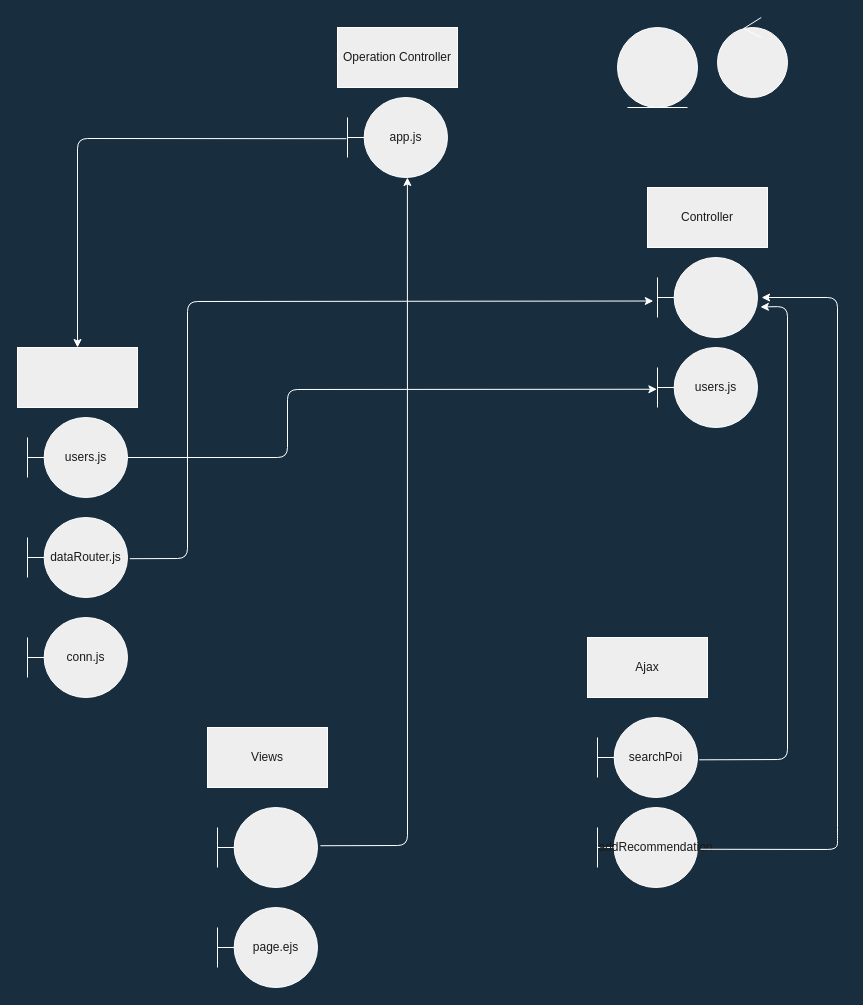
Some shapes in this 863 by 1005 pixel diagram are drawn without their labels. Each missing label, with the centre of its shape:
Control Object: (x=752, y=57)
Entity Object: (x=657, y=67)
index.ejs: (x=267, y=847)
Model: (x=77, y=377)
poi.js: (x=707, y=297)
